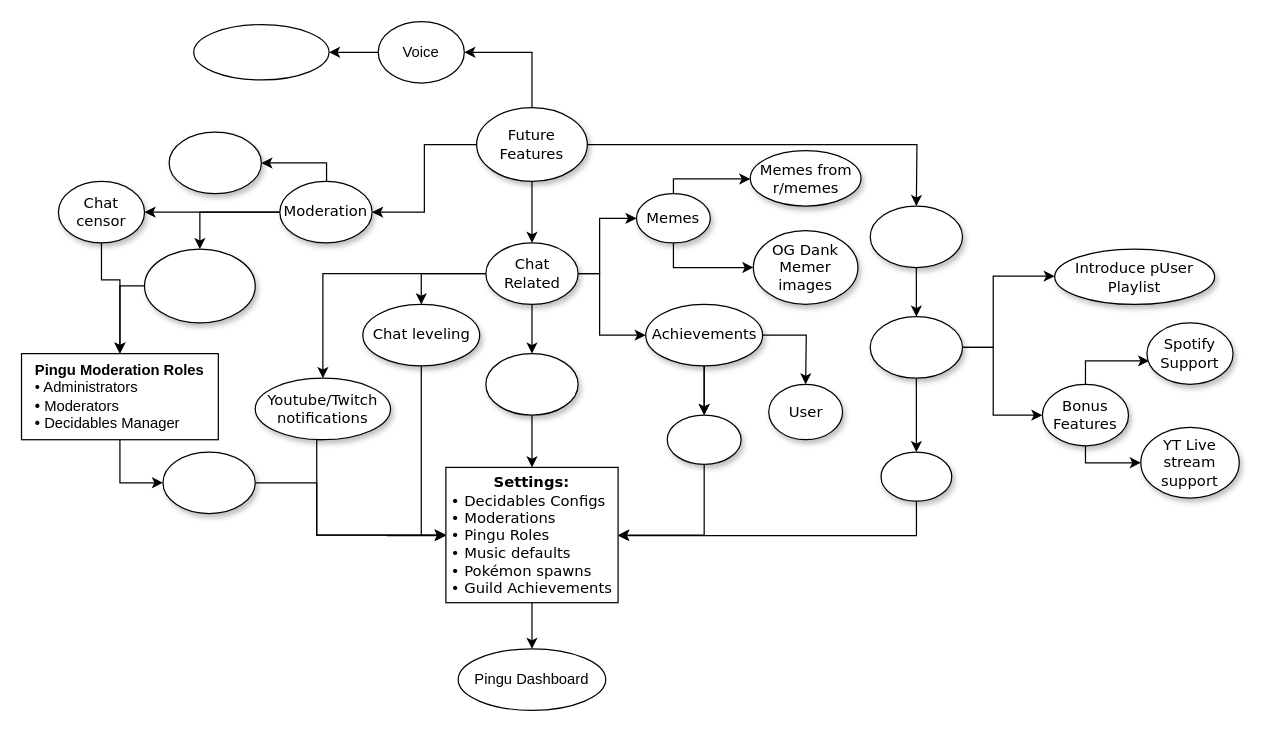
Some shapes in this 1268 by 732 pixel diagram are drawn without their labels. Each missing label, with the centre of its shape:
"Pokémon" spawns: pixel 532 385
Basic moderation commands: pixel 200 287
DJ Role: pixel 917 478
Event logs: pixel 216 164
Guild: pixel 704 441
Music: pixel 917 238
Rewrite *music w/ lavalink: pixel 917 349
TeamSpeak-like chat: pixel 260 51
Warnings System: pixel 210 484
